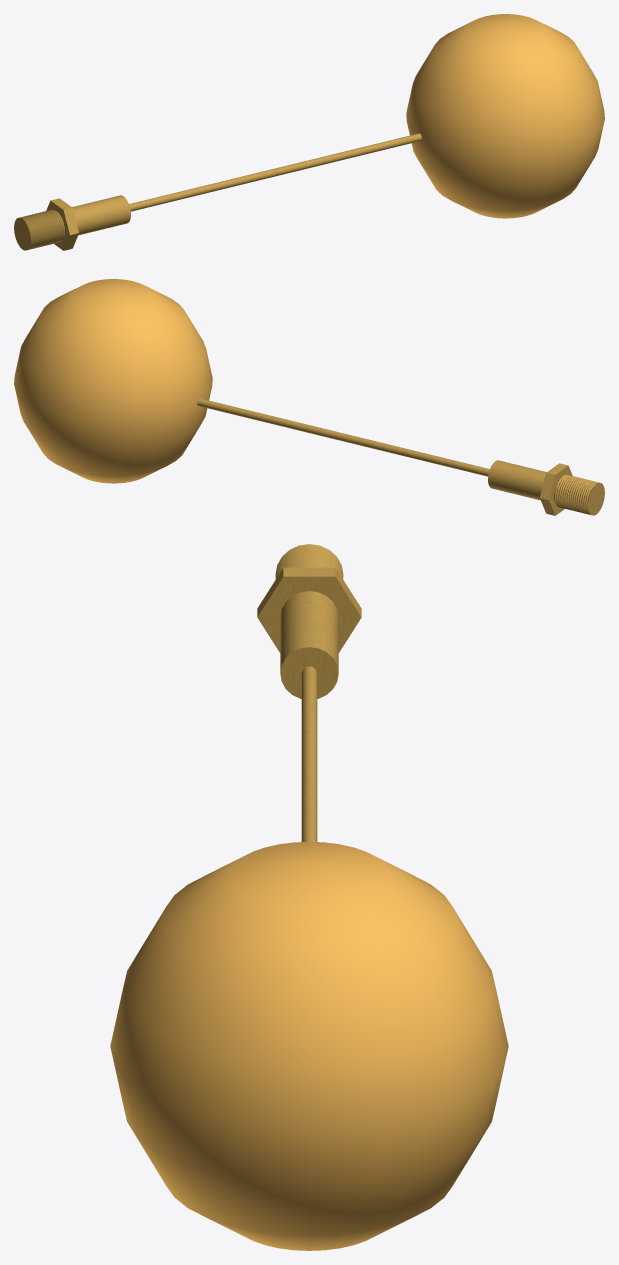
File: HID-REG-005.glb
3 renders of one model, top to bottom at view 1: azimuth 30°, elevation 25°; view 2: azimuth 150°, elevation 25°; view 3: azimuth 270°, elevation 25°, orthographic. The views are drawn at different scales.
Parts seen in each view (by area): view 1: HID-REG-005_boia, HID-REG-005_haste, HID-REG-005_corpo, HID-REG-005_rosca, HID-REG-005_porca; view 2: HID-REG-005_boia, HID-REG-005_haste, HID-REG-005_corpo, HID-REG-005_rosca, HID-REG-005_porca; view 3: HID-REG-005_boia, HID-REG-005_corpo, HID-REG-005_porca, HID-REG-005_haste, HID-REG-005_rosca.
Part boxes in pixels (x1=…): HID-REG-005_boia: x1=406, y1=14, x2=604, y2=218; HID-REG-005_haste: x1=129, y1=133, x2=421, y2=211; HID-REG-005_corpo: x1=72, y1=195, x2=130, y2=235; HID-REG-005_rosca: x1=14, y1=209, x2=64, y2=250; HID-REG-005_porca: x1=46, y1=198, x2=78, y2=250; HID-REG-005_boia: x1=14, y1=279, x2=212, y2=483; HID-REG-005_haste: x1=197, y1=398, x2=489, y2=476; HID-REG-005_corpo: x1=488, y1=460, x2=546, y2=500; HID-REG-005_rosca: x1=554, y1=474, x2=604, y2=515; HID-REG-005_porca: x1=540, y1=463, x2=572, y2=515; HID-REG-005_boia: x1=110, y1=841, x2=508, y2=1250; HID-REG-005_corpo: x1=280, y1=591, x2=338, y2=698; HID-REG-005_porca: x1=257, y1=567, x2=361, y2=652; HID-REG-005_haste: x1=301, y1=666, x2=317, y2=841; HID-REG-005_rosca: x1=275, y1=544, x2=343, y2=579.
Bounding box in the file's own units: 0.495 × 0.15 × 0.15.
Materials: 2 (1 with a texture image).
